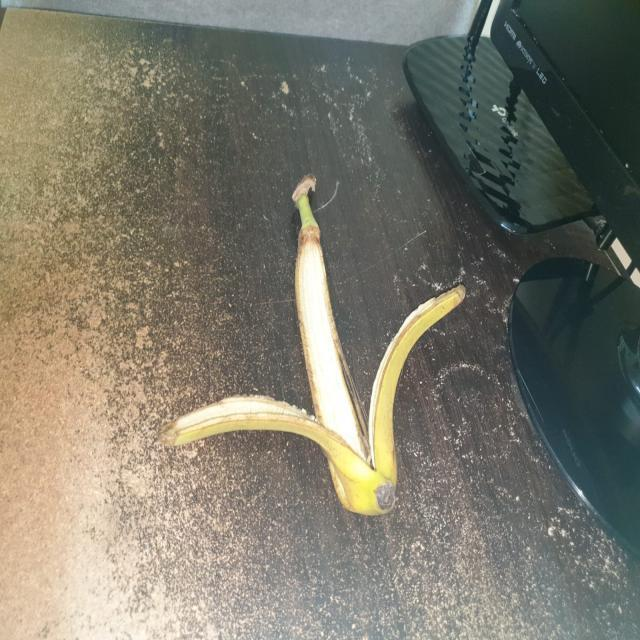banana-peel: (158, 173, 466, 517)
